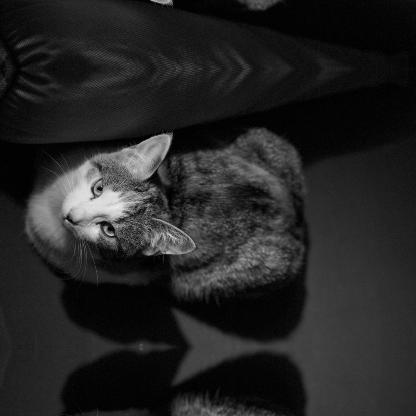Cat: (21, 126, 306, 302)
